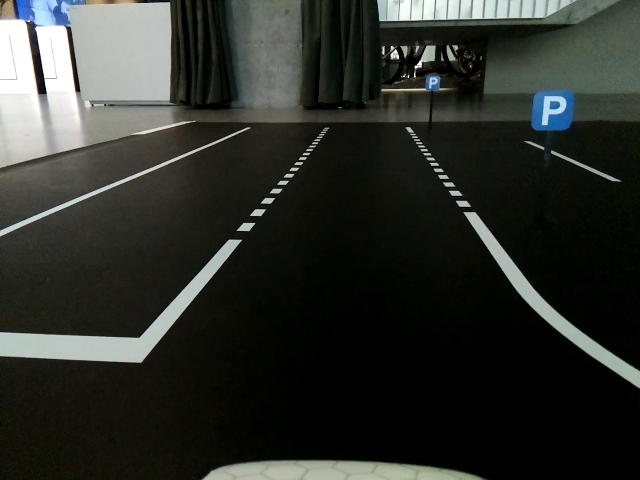park: (533, 92, 572, 130), (426, 76, 441, 90)
